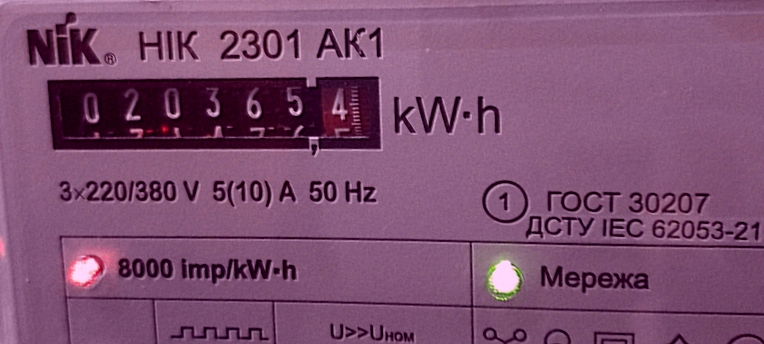0: (80, 88, 102, 122), (162, 82, 182, 119)
2: (119, 84, 143, 120)
3: (203, 81, 222, 116)
4: (329, 83, 349, 118)
5: (283, 82, 304, 115)
6: (243, 82, 263, 118)
screen: (29, 53, 400, 167)
